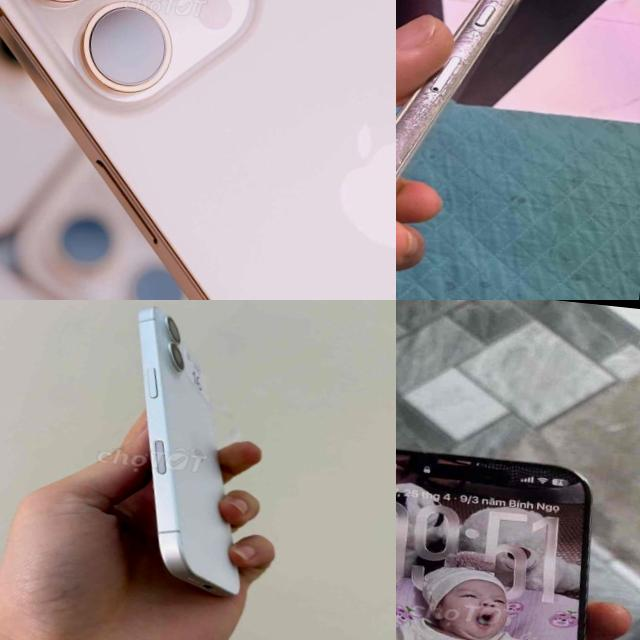gen_15: (396, 422, 617, 640)
gen_16: (0, 0, 396, 300), (97, 300, 293, 618)
gen_7_8: (396, 0, 537, 300)
